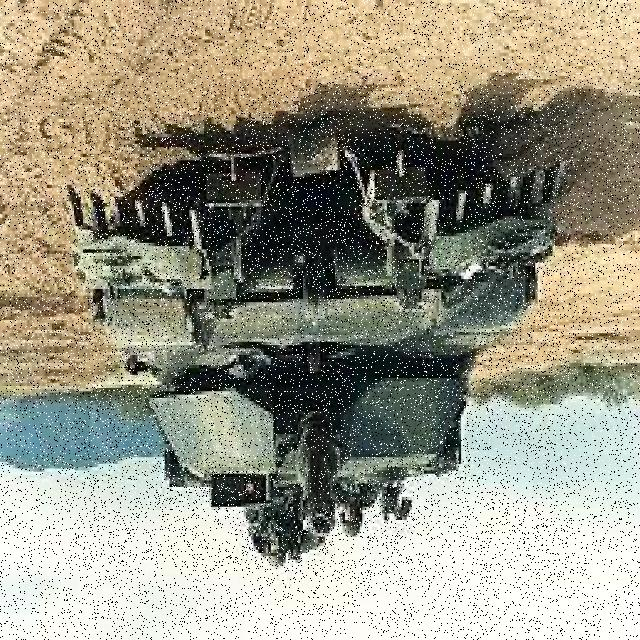MIL_MBT: (76, 83, 569, 573)
